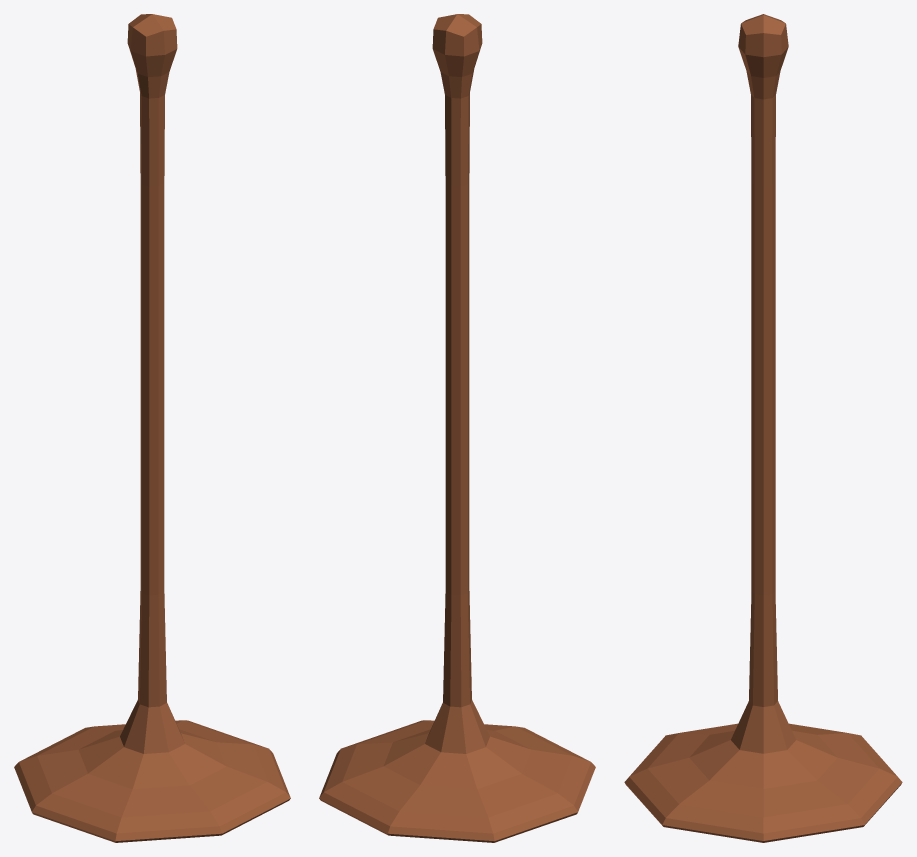
The model's file is Lampu.fbx.
3 views of the same model, side by side, from view 1: azimuth 30°, elevation 25°; view 2: azimuth 150°, elevation 25°; view 3: azimuth 270°, elevation 25° (orthographic).
Parts seen in each view (by area): view 1: Lampu hias; view 2: Lampu hias; view 3: Lampu hias.
Part boxes in pixels (box(x1,y1,x2,y2)): Lampu hias: box(14, 14, 290, 842); Lampu hias: box(319, 14, 595, 842); Lampu hias: box(624, 14, 902, 842).
Bounding box in the file's own units: 53.1 × 162 × 53.1.
